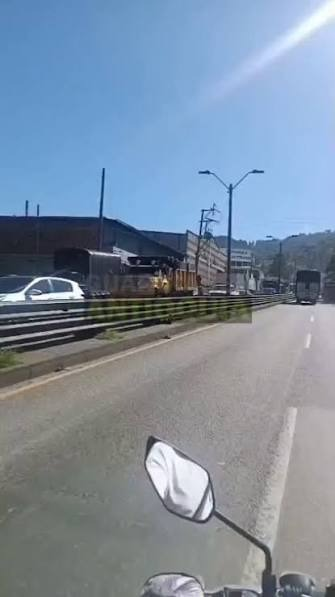car: (5, 271, 85, 316)
